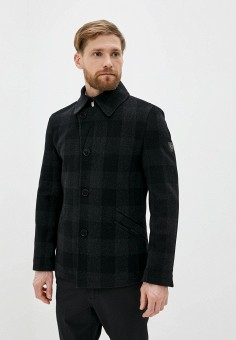squared: (30, 82, 181, 289)
